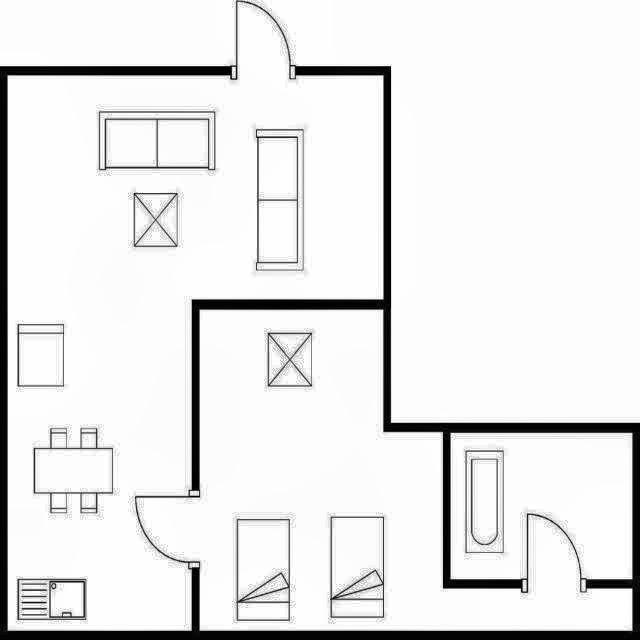room: (8, 76, 383, 630), (200, 309, 632, 629), (452, 433, 632, 579)
